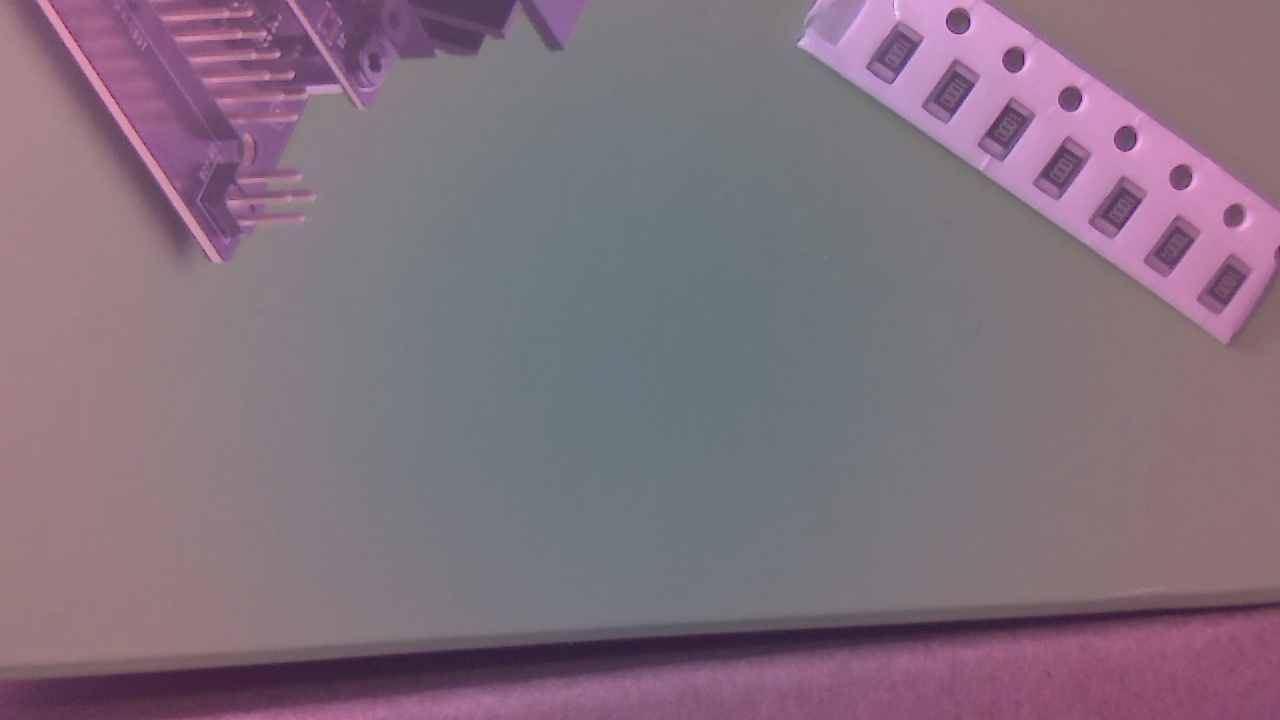Resistor: (928, 64, 989, 129), (1039, 141, 1099, 206), (981, 103, 1042, 166), (870, 27, 930, 91), (1202, 259, 1260, 325), (1151, 217, 1208, 283), (1097, 180, 1155, 244)
